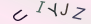I: (36, 1, 46, 14)
J: (59, 2, 70, 16)
U: (12, 9, 29, 23)
Y: (47, 2, 59, 18)
Z: (72, 6, 87, 21)
